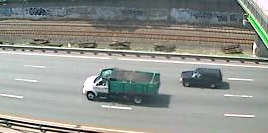car: (82, 66, 164, 107), (177, 67, 226, 91)
